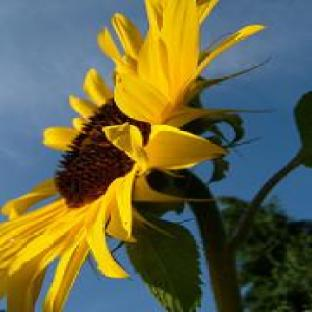sunflower: (0, 0, 267, 312)
